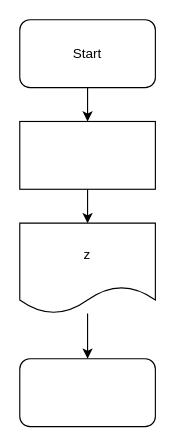
Image size: 175x446. Some labels were removed from this diagram. The shapes that lost their labels are listed below. From the top down, each one's centre as x and y in pixels, then its label:
At (87,154): "number = 645 z=number mod 10".
At (87,392): "End".
